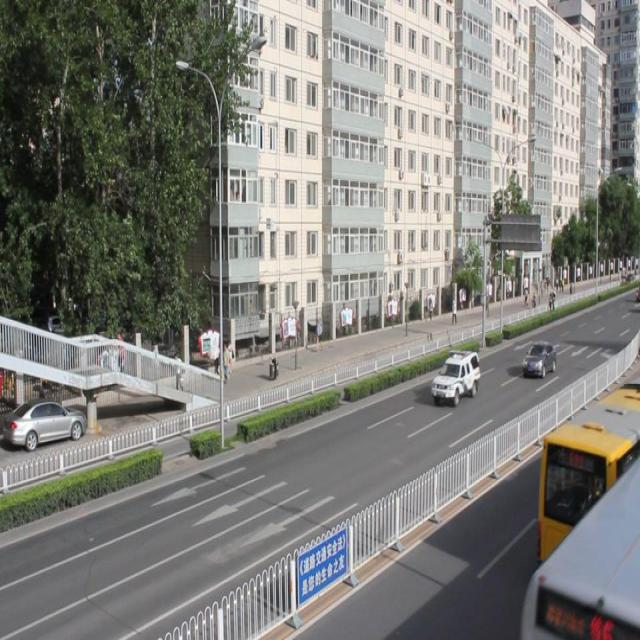car: (431, 348, 478, 401), (520, 339, 552, 374)
van: (518, 458, 640, 640), (540, 380, 640, 552)
